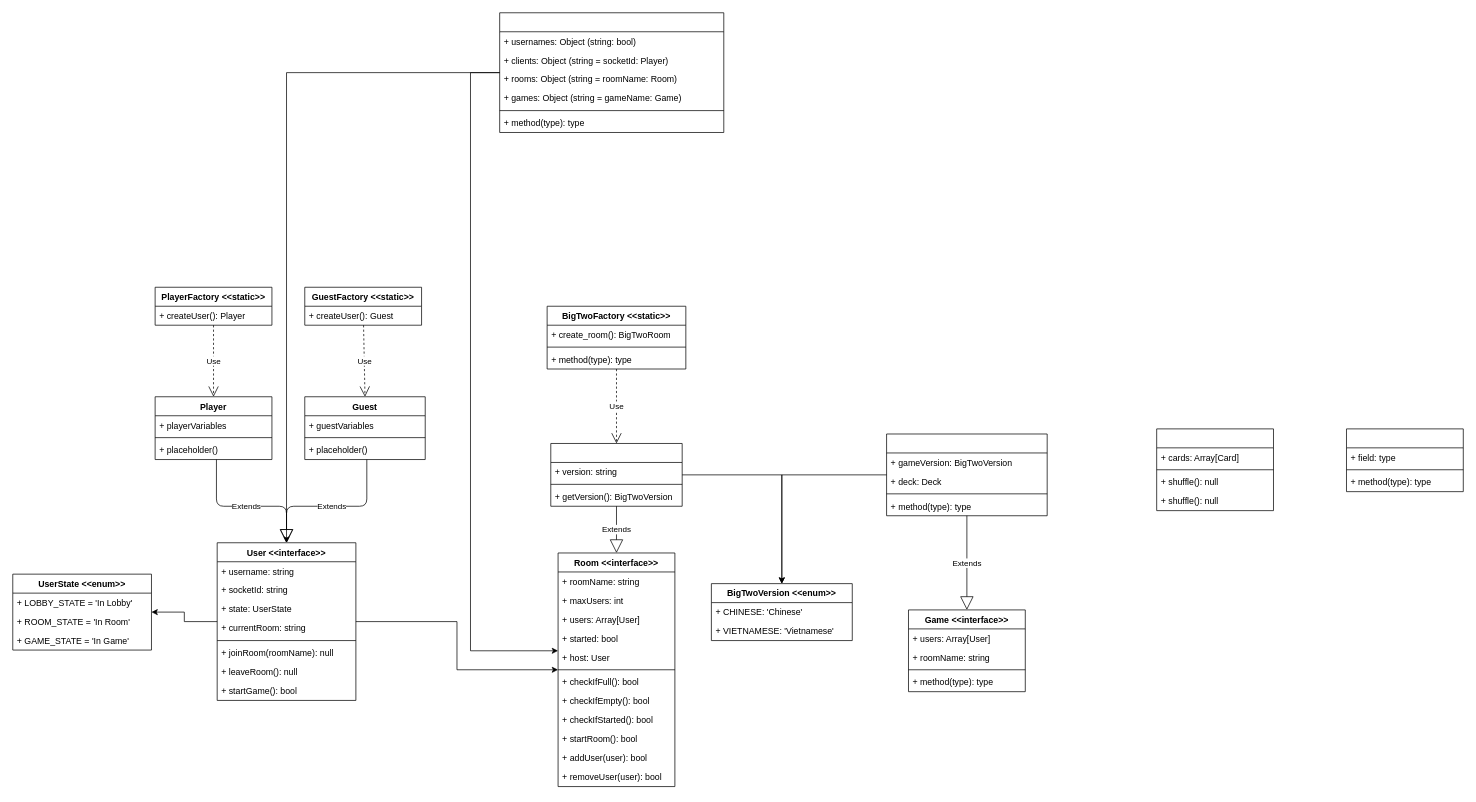
The diagram is 1476 pixels wide and 802 high, and some of its shapes have lost their labels. Here are the shapes that lost their labels. From the top down, the box of each, then its label:
(499, 12, 724, 132): Application
(550, 443, 682, 506): BigTwoRoom
(886, 433, 1047, 516): BigTwoGame
(1156, 428, 1273, 511): Deck
(1346, 428, 1463, 492): Hand
